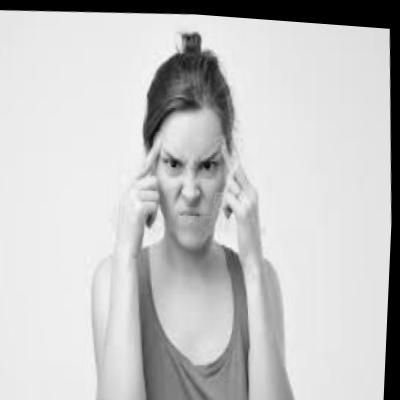angry: (145, 93, 244, 249)
